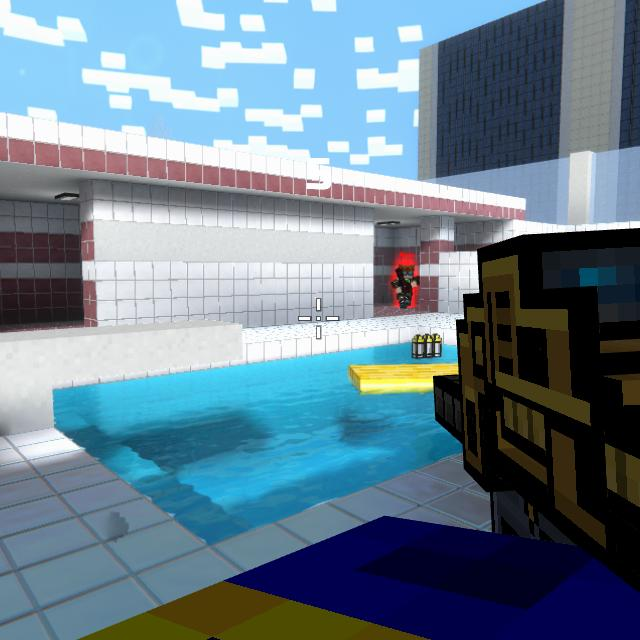Enemy: (390, 265, 418, 308)
